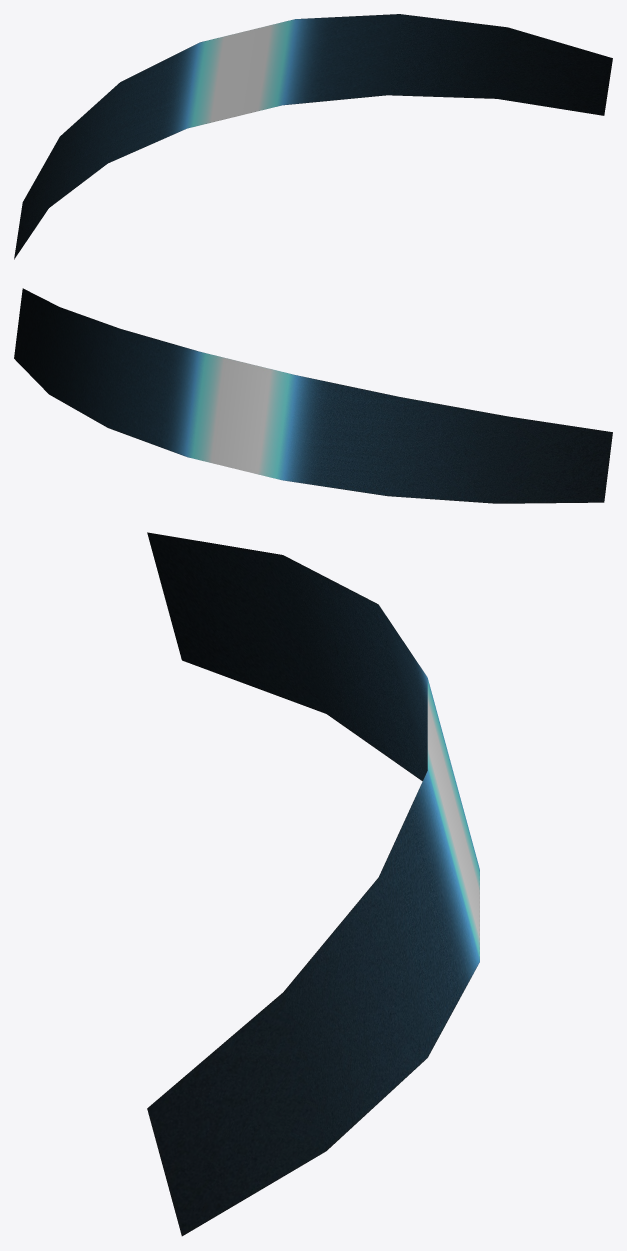
Rendered from road.obj.
3 views of the same model, one above another, from view 1: azimuth 30°, elevation 25°; view 2: azimuth 150°, elevation 25°; view 3: azimuth 270°, elevation 25° (orthographic). The views are drawn at different scales.
Visible parts, largest first — view 1: Object003; view 2: Object003; view 3: Object003.
Part boxes in pixels (x1,y1,x2,y2): Object003: (14,14,612,259); Object003: (14,288,612,503); Object003: (147,532,479,1236).
Size of the model in its own units: 180 by 32.65 by 43.85.
Materials: 1 (1 with a texture image).
